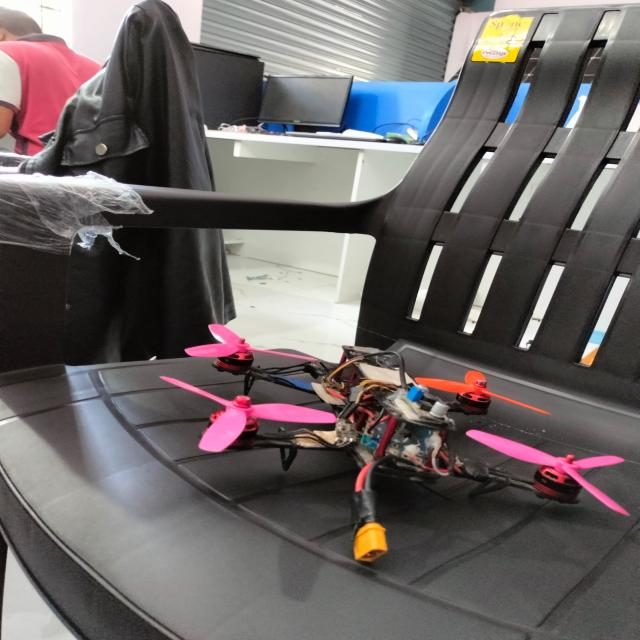drone: (159, 310, 619, 550)
